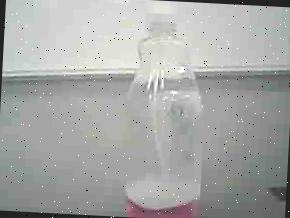hazard: (114, 0, 223, 218)
